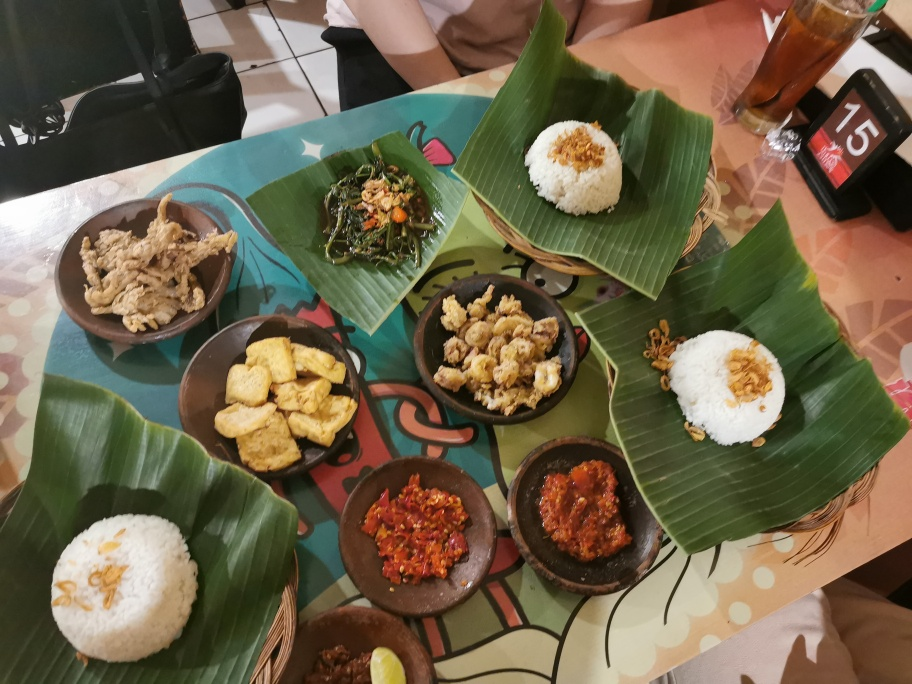nasi putih: (35, 503, 203, 661), (672, 330, 787, 447), (524, 115, 628, 215)
